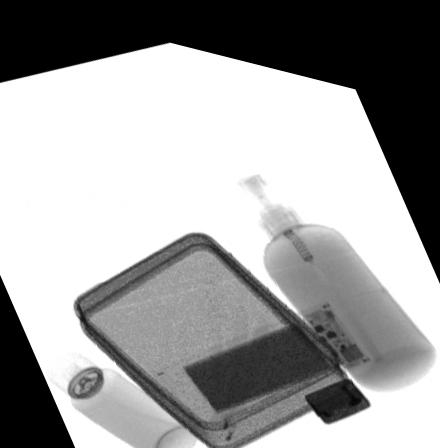Lighter: (304, 359, 371, 408)
Powerbank: (152, 283, 372, 419)
Sprayer: (47, 348, 200, 448)
